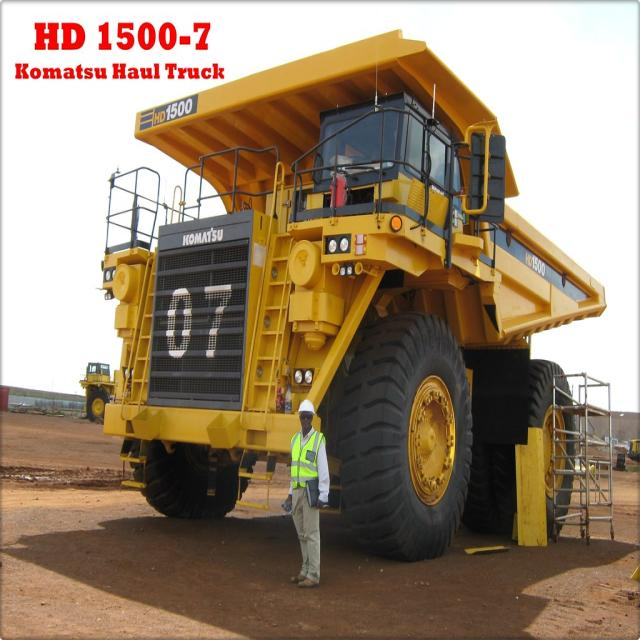dump_truck: (93, 30, 597, 548)
